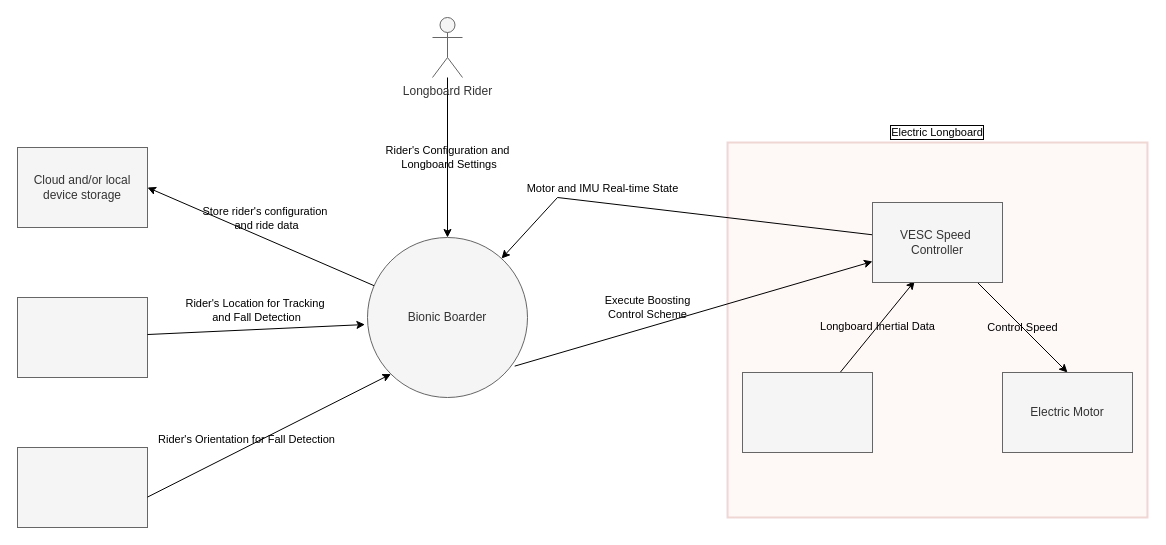
Image size: 1166x545. Some labels were removed from this diagram. Here are the shapes that lost their labels. From the top down, the box of each, then its label:
(16, 296, 148, 378): Smartphone GPS/Location Services
(742, 372, 872, 452): IMU Sensor
(16, 446, 148, 528): Smartphone IMU
